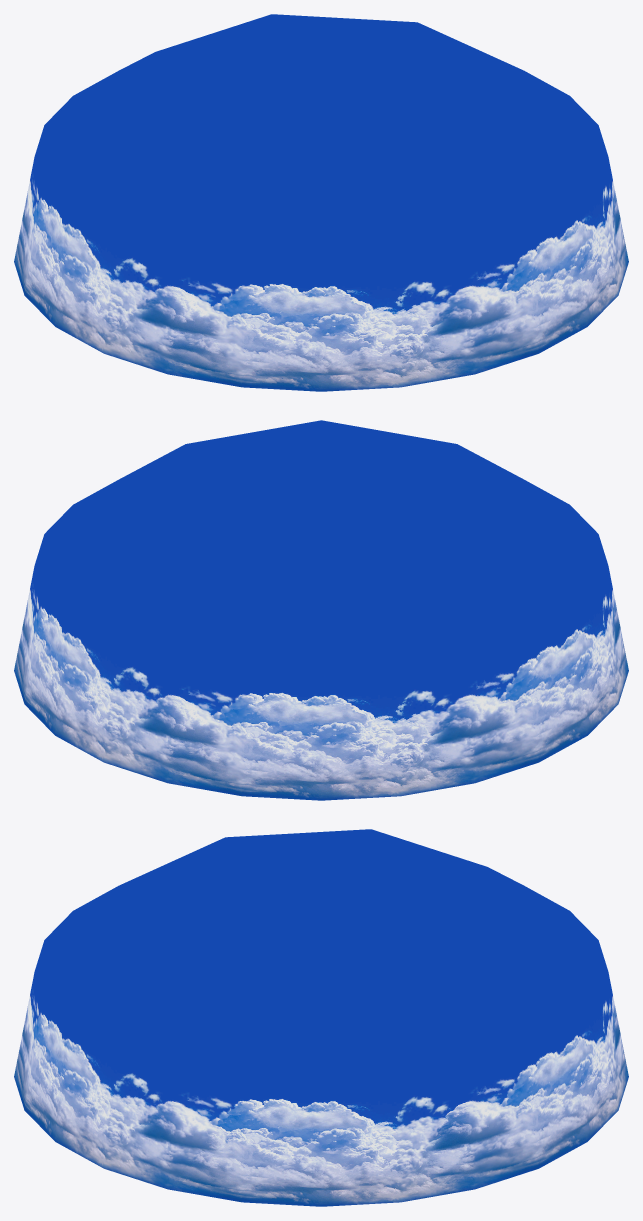
The model's file is Chunk2.obj.
3 views of the same model, one above another, from view 1: azimuth 30°, elevation 25°; view 2: azimuth 150°, elevation 25°; view 3: azimuth 270°, elevation 25° (orthographic).
Bounding box in the file's own units: 100000 × 36393 × 100000.
Materials: 19 (19 with a texture image).
